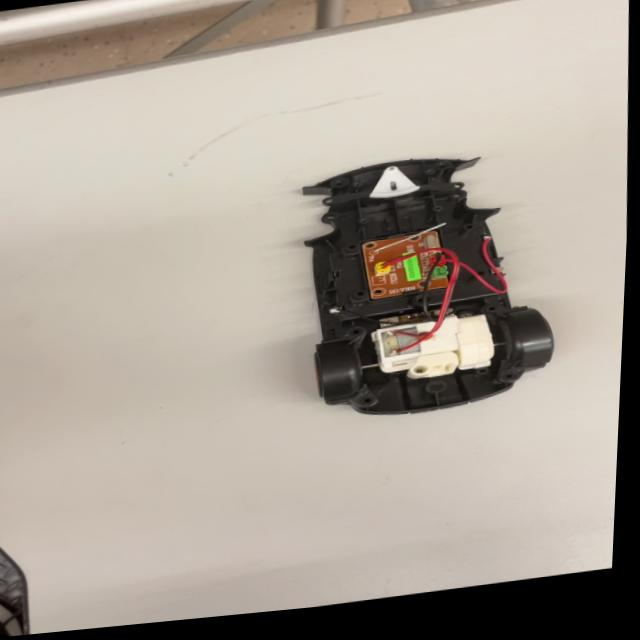Chassis: (299, 130, 569, 426)
